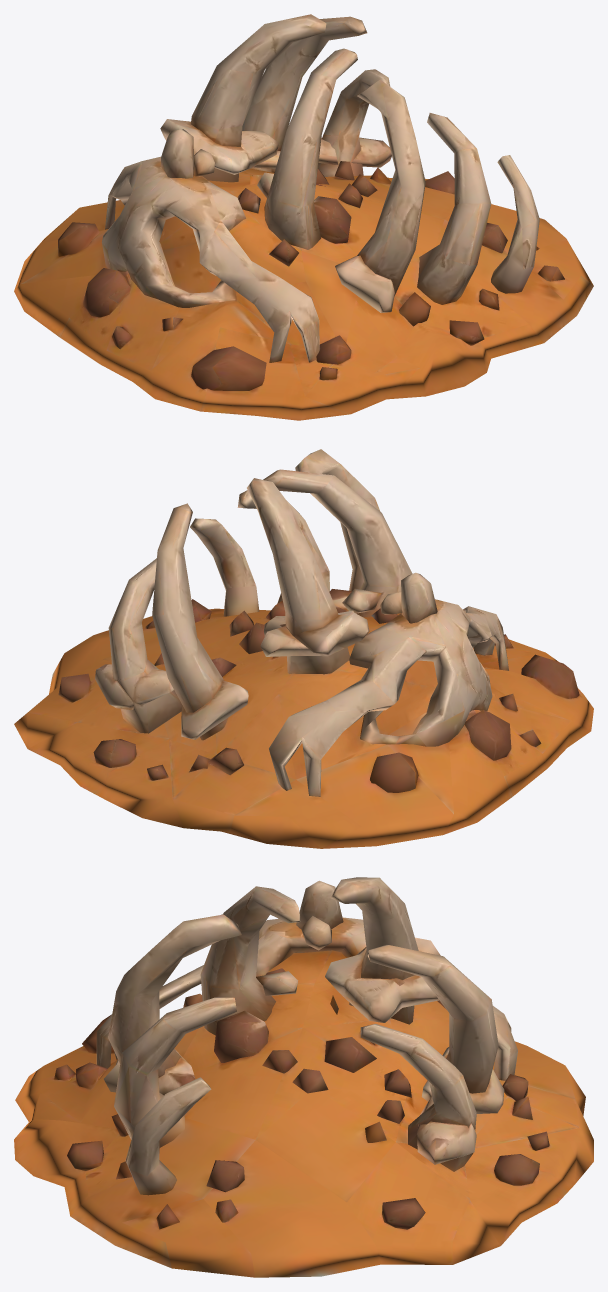
The model's file is desert_bones_1.glb.
The picture shows the model from 3 angles, top to bottom: view 1: azimuth 30°, elevation 25°; view 2: azimuth 150°, elevation 25°; view 3: azimuth 270°, elevation 25°; orthographic projection. The views are drawn at different scales.
Size of the model in its own units: 1 by 0.5234 by 0.9863.
1 material, 1 textured.
